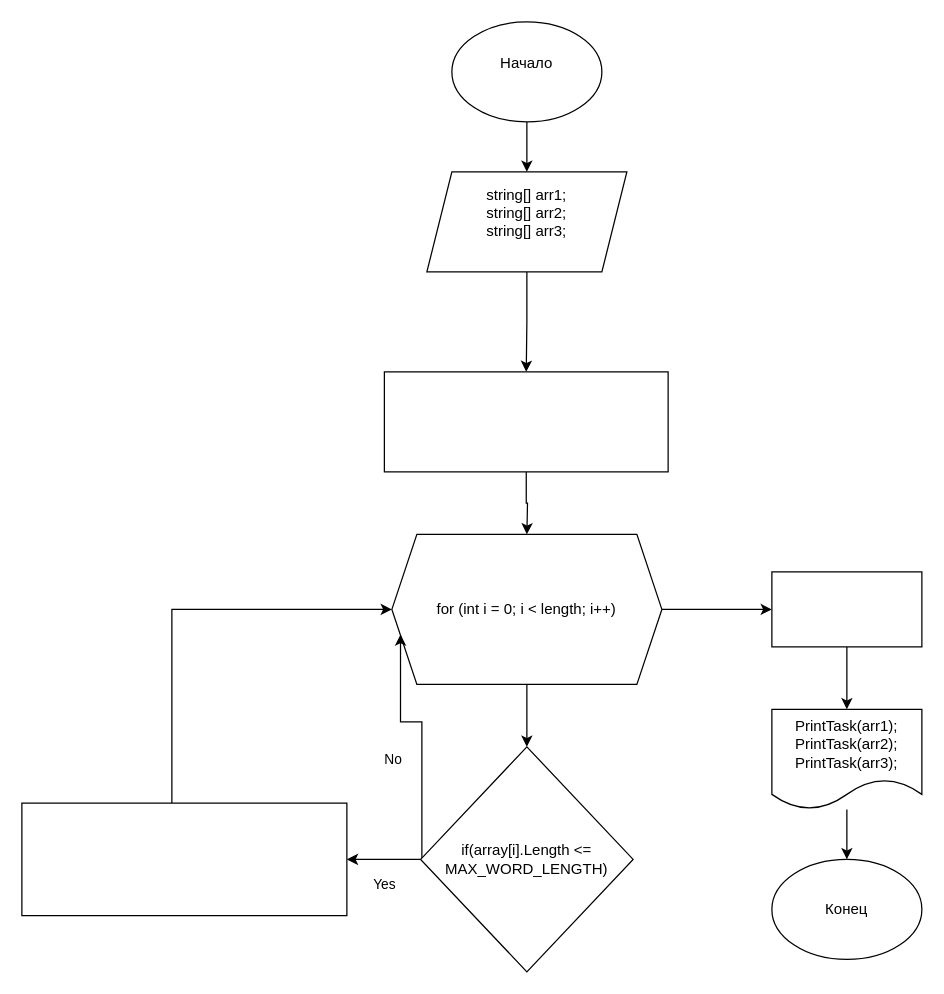
Image size: 944x994. Some labels were removed from this diagram. The shapes that lost their labels are listed below. From the top down, each one's centre as x and y in pixels, then its label:
At point (525, 421): "string[] GetShortWordsArray(string[] array)".
At point (846, 609): "void PrintTask(string[] array)".
At point (184, 859): "result[count] = array[i]; count++;".
